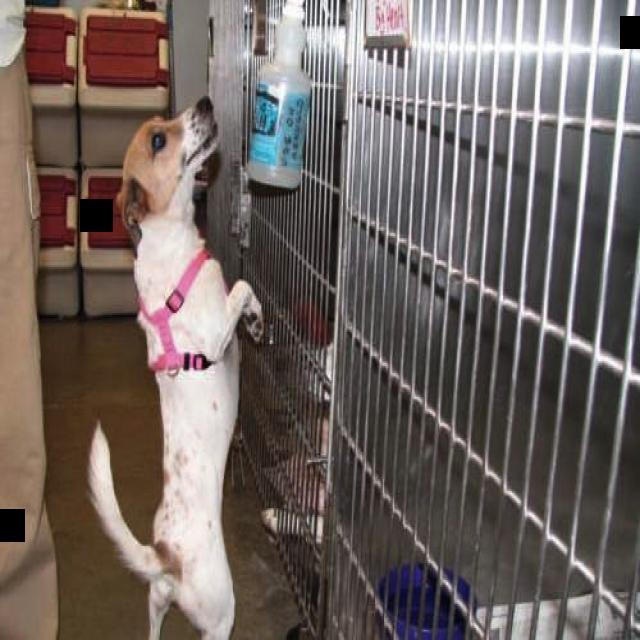adult_dog: (89, 97, 268, 640)
